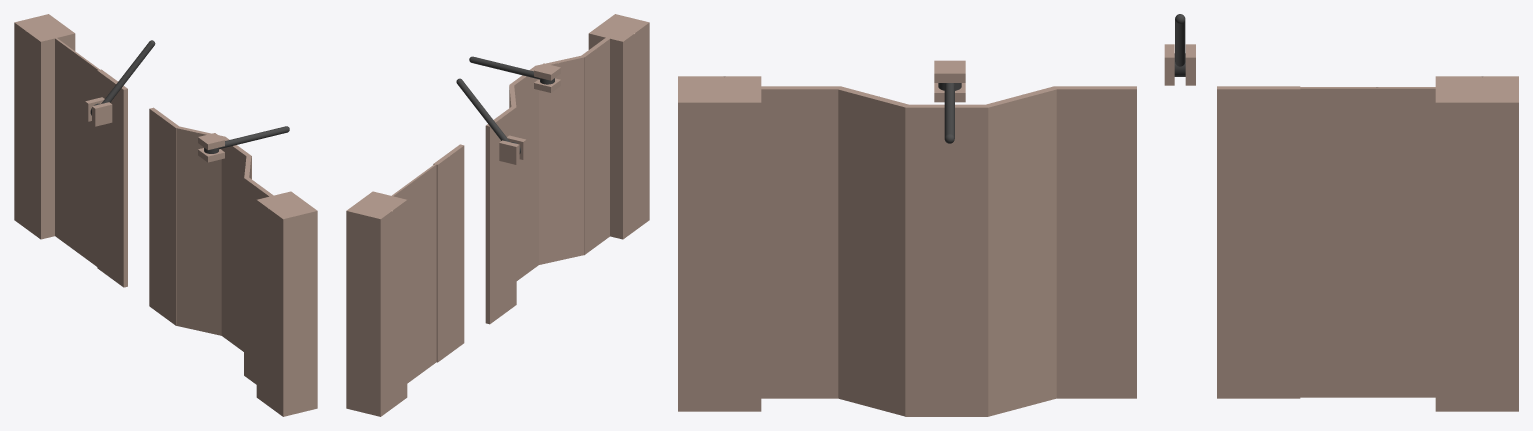
File: Nivel16.fbx
The picture shows the model from 3 angles, left to right: view 1: azimuth 30°, elevation 25°; view 2: azimuth 150°, elevation 25°; view 3: azimuth 270°, elevation 25°; orthographic projection. The views are drawn at different scales.
Parts seen in each view (by area): view 1: Plataforma-M.042, Plataforma-M.050, Plataforma-M.046, Plataforma-M.048, Plataforma-M.049, Plataforma-M.047, Plataforma-M.045, Plataforma-M.043, Cubo.050, Cubo.049, Círculo.008, Círculo.007; view 2: Plataforma-M.050, Plataforma-M.042, Plataforma-M.044, Plataforma-M.048, Plataforma-M.047, Plataforma-M.049, Plataforma-M.043, Plataforma-M.045, Cubo.050, Cubo.049, Círculo.008, Círculo.007; view 3: Plataforma-M.048, Plataforma-M.050, Plataforma-M.042, Plataforma-M.049, Plataforma-M.045, Plataforma-M.047, Plataforma-M.043, Plataforma-M.046, Plataforma-M.044, Cubo.049, Cubo.050.
Part boxes in pixels (box(x1,y1,x2,y2)): Plataforma-M.042: box(256, 191, 317, 416); Plataforma-M.050: box(14, 14, 75, 239); Plataforma-M.046: box(176, 126, 224, 335); Plataforma-M.048: box(55, 38, 99, 266); Plataforma-M.049: box(97, 69, 127, 287); Plataforma-M.047: box(149, 107, 179, 325); Plataforma-M.045: box(221, 137, 251, 351); Plataforma-M.043: box(244, 177, 274, 384); Cubo.050: box(85, 97, 112, 126); Cubo.049: box(198, 133, 224, 162); Círculo.008: box(90, 40, 155, 115); Círculo.007: box(204, 126, 289, 153); Plataforma-M.050: box(346, 191, 407, 416); Plataforma-M.042: box(588, 14, 649, 239); Plataforma-M.044: box(536, 55, 584, 264); Plataforma-M.048: box(391, 164, 436, 383); Plataforma-M.047: box(485, 106, 516, 324); Plataforma-M.049: box(433, 144, 464, 362); Plataforma-M.043: box(581, 37, 610, 255); Plataforma-M.045: box(510, 65, 539, 280); Cubo.050: box(499, 135, 526, 164); Cubo.049: box(534, 63, 560, 92); Círculo.008: box(456, 78, 520, 153); Círculo.007: box(469, 56, 554, 84); Plataforma-M.048: box(1299, 87, 1435, 397); Plataforma-M.050: box(1435, 76, 1518, 411); Plataforma-M.042: box(678, 76, 761, 411); Plataforma-M.049: box(1217, 86, 1300, 398); Plataforma-M.045: box(905, 104, 988, 416); Plataforma-M.047: box(1053, 86, 1136, 398); Plataforma-M.043: box(758, 86, 839, 398); Plataforma-M.046: box(984, 86, 1056, 416); Plataforma-M.044: box(836, 86, 909, 416); Cubo.049: box(934, 60, 965, 102); Cubo.050: box(1164, 44, 1195, 85).
Size of the model in its own units: 4418 by 8465 by 16399.
